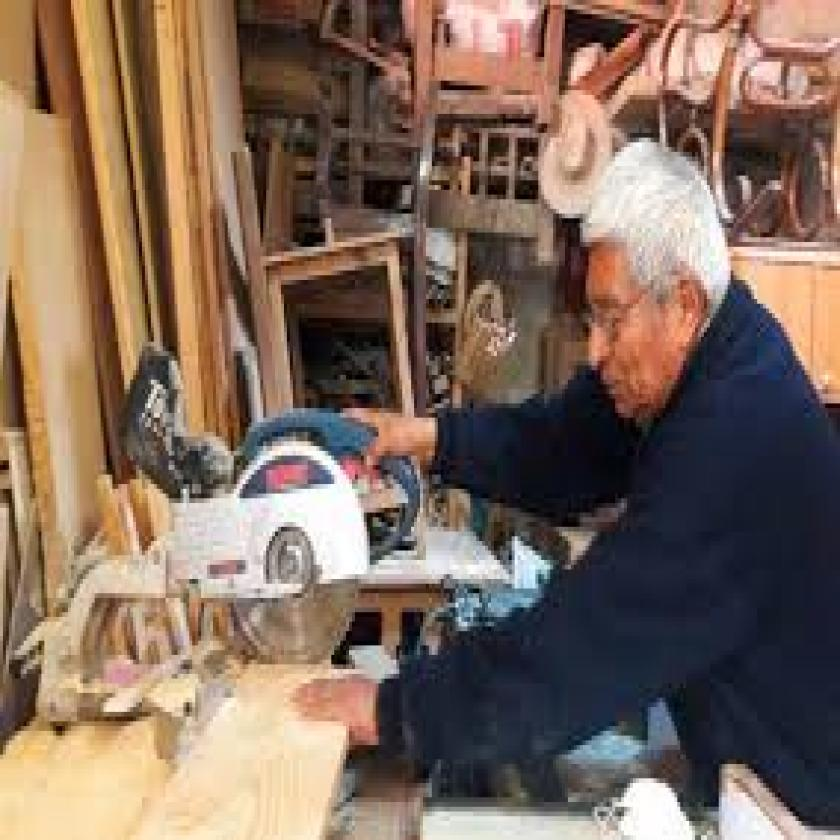Sin_casco: (562, 133, 743, 455)
